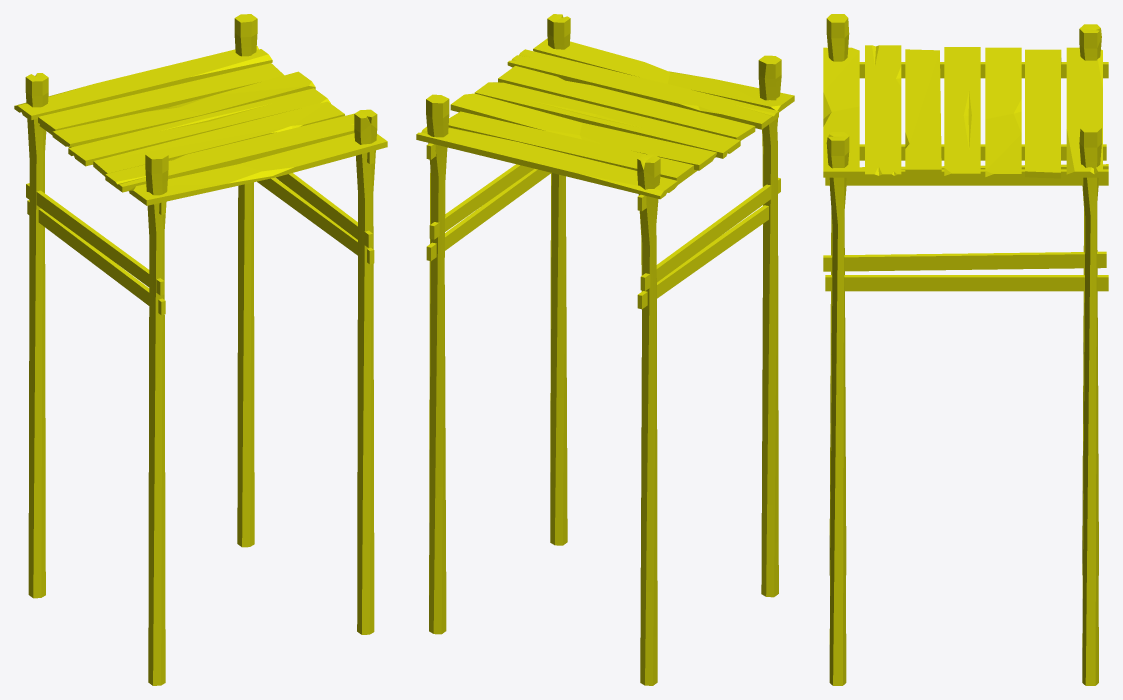
File: trp_dock.glb
3 renders of one model, left to right at view 1: azimuth 30°, elevation 25°; view 2: azimuth 150°, elevation 25°; view 3: azimuth 270°, elevation 25°, orthographic. The views are drawn at different scales.
Visible parts, largest first — view 1: SM_Env_Dock_01; view 2: SM_Env_Dock_01; view 3: SM_Env_Dock_01.
Boxes of the visible parts, bbox=[...] form: SM_Env_Dock_01: bbox=[14, 14, 387, 685]; SM_Env_Dock_01: bbox=[416, 14, 794, 685]; SM_Env_Dock_01: bbox=[823, 14, 1108, 685].
Bounding box in the file's own units: 3.82 × 7.67 × 3.56.
Materials: 1 (1 with a texture image).
